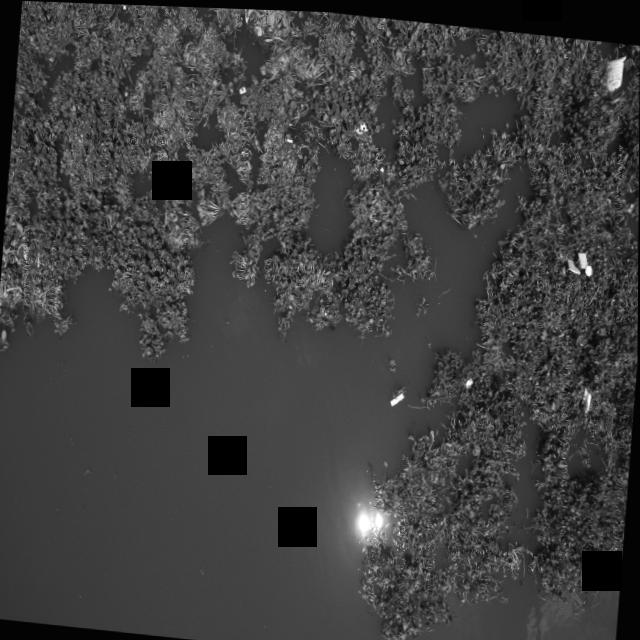plastic: (600, 42, 631, 95), (574, 378, 601, 419), (386, 380, 407, 409), (463, 359, 480, 390), (563, 247, 584, 272), (351, 117, 371, 138), (469, 437, 486, 458), (574, 245, 593, 263), (581, 257, 598, 277), (177, 206, 192, 218), (236, 82, 249, 95), (283, 133, 296, 144), (526, 370, 534, 378)
